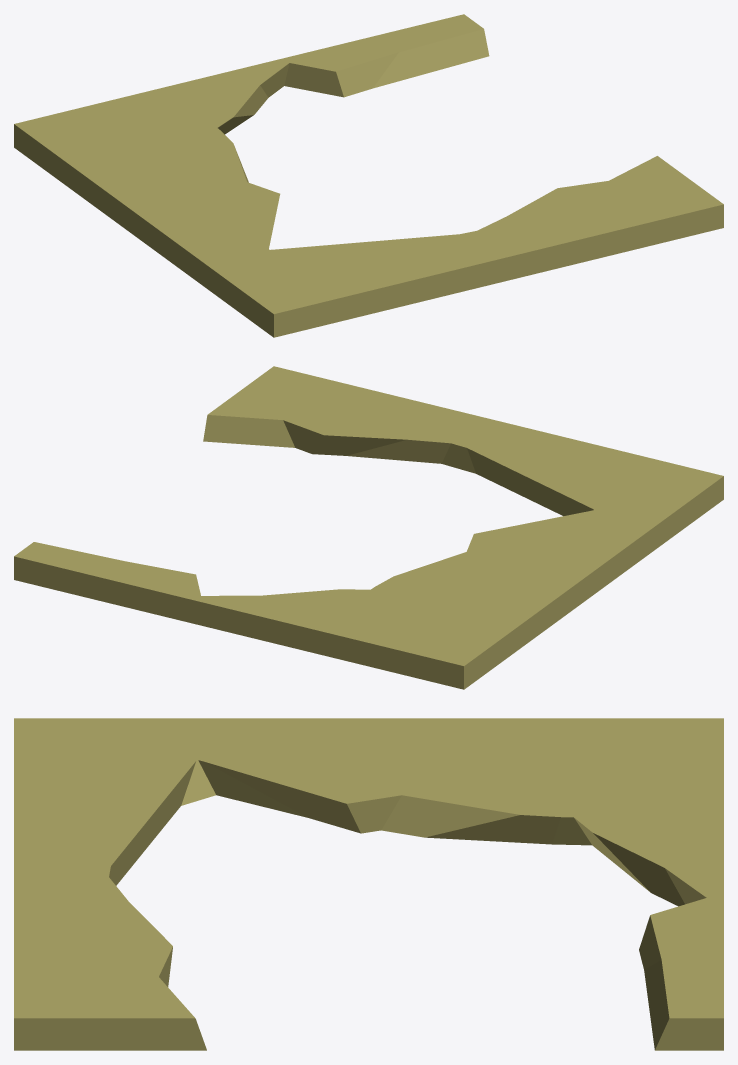
Rendered from Destroyed-Ceiling-col4.glb.
3 views of the same model, one above another, from view 1: azimuth 30°, elevation 25°; view 2: azimuth 150°, elevation 25°; view 3: azimuth 270°, elevation 25° (orthographic). The views are drawn at different scales.
Parts seen in each view (by area): view 1: Destroyed-Ceiling-col4; view 2: Destroyed-Ceiling-col4; view 3: Destroyed-Ceiling-col4.
Boxes of the visible parts, box(x1,y1,x2,y2) form: Destroyed-Ceiling-col4: box(14, 14, 723, 337); Destroyed-Ceiling-col4: box(14, 366, 723, 689); Destroyed-Ceiling-col4: box(14, 718, 723, 1050).
Size of the model in its own units: 2 by 0.1 by 2.
